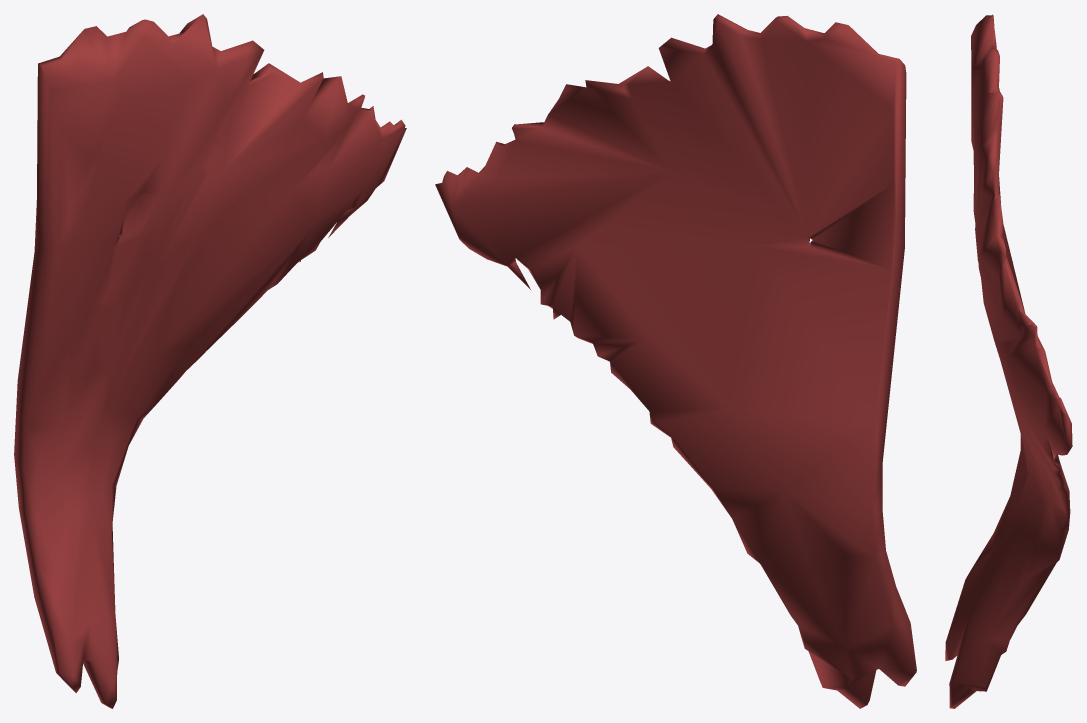
File: procerus-muscle-l.glb
3 views of the same model, side by side, from view 1: azimuth 30°, elevation 25°; view 2: azimuth 150°, elevation 25°; view 3: azimuth 270°, elevation 25° (orthographic). The views are drawn at different scales.
Parts seen in each view (by area): view 1: Procerus muscle.l; view 2: Procerus muscle.l; view 3: Procerus muscle.l.
Boxes of the visible parts, x1,y1,x2,y2 form: Procerus muscle.l: [14, 14, 406, 708]; Procerus muscle.l: [435, 14, 916, 708]; Procerus muscle.l: [945, 14, 1072, 708].
Bounding box in the file's own units: 0.0232 × 0.0365 × 0.00609.
